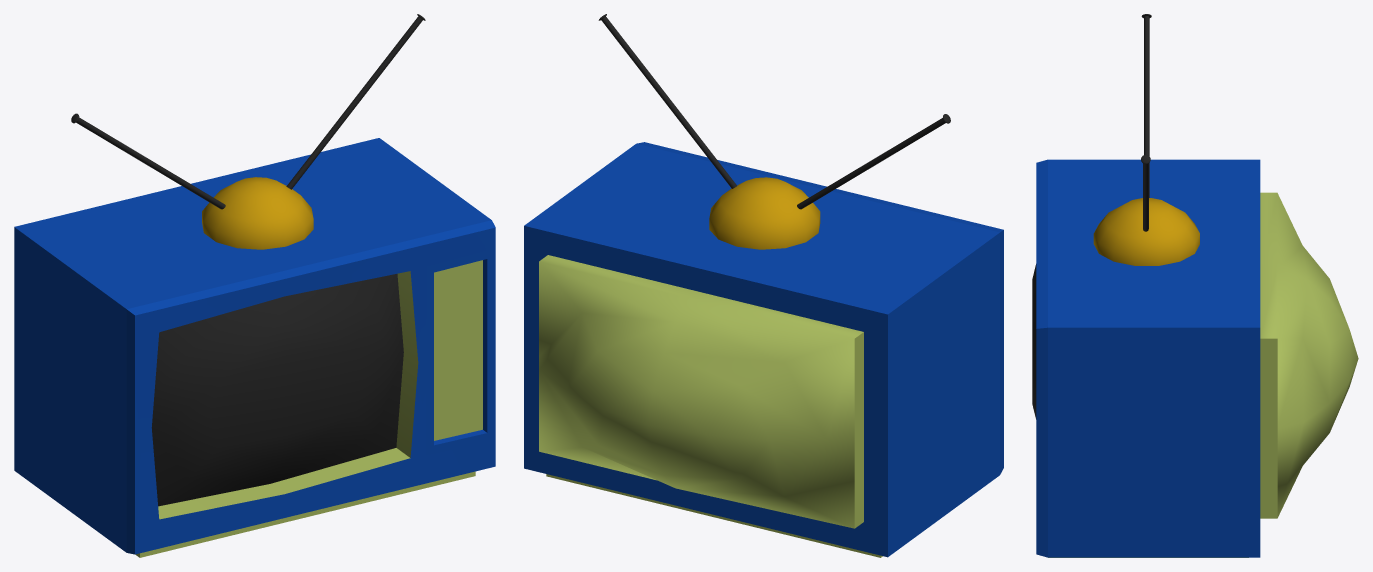
3 views of the same model, side by side, from view 1: azimuth 30°, elevation 25°; view 2: azimuth 150°, elevation 25°; view 3: azimuth 270°, elevation 25° (orthographic). The views are drawn at different scales.
Visible parts, largest first — view 1: Box001; view 2: Box001; view 3: Box001.
Boxes of the visible parts, x1,y1,x2,y2 form: Box001: (14,14,495,557); Box001: (524,14,1003,557); Box001: (1032,14,1358,557).
Size of the model in its own units: 34.79 by 38.44 by 28.36.
